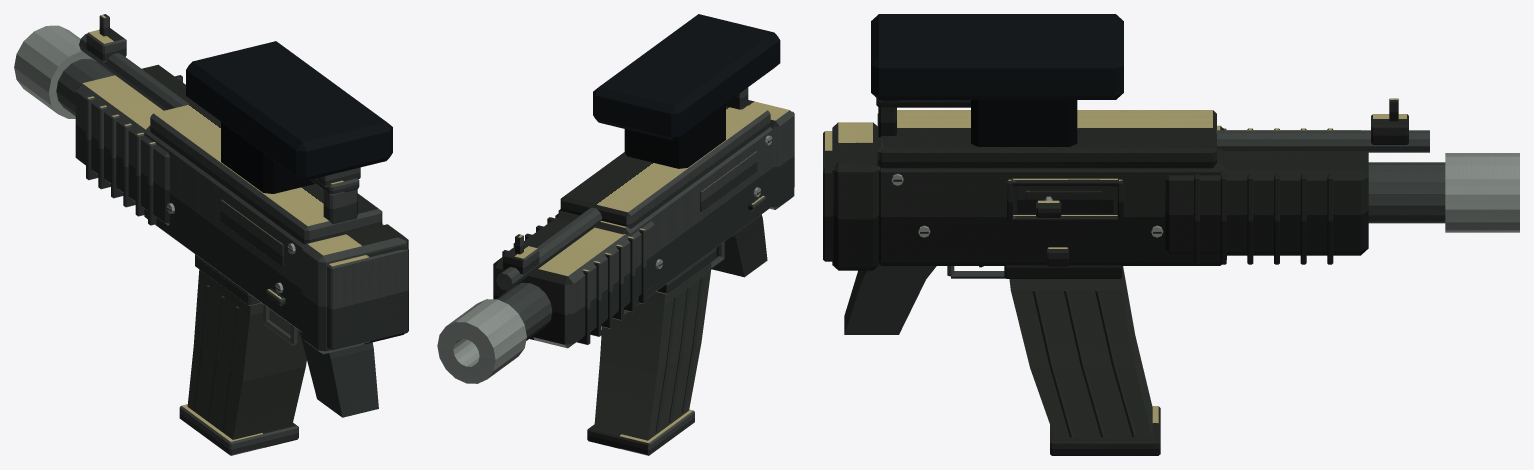
Rendered from Shotgun12Air.obj.
3 renders of one model, left to right at view 1: azimuth 30°, elevation 25°; view 2: azimuth 150°, elevation 25°; view 3: azimuth 270°, elevation 25°, orthographic. The views are drawn at different scales.
Visible parts, largest first — view 1: Mount_lug, box_magazine, receiver_core, upper_receiver, fore_end_core, rear_cap_pad, rear_cap, short_pistol_grip, muzzle_collar, Mount_bearing_bridge, magazine_floorplate, upper_gas_tube (+16 smaller); view 2: Mount_lug, box_magazine, receiver_core, fore_end_core, upper_receiver, muzzle_collar, Mount_bearing_bridge, rear_cap, short_pistol_grip, upper_gas_tube, magazine_floorplate, short_barrel (+12 smaller); view 3: receiver_core, Mount_lug, fore_end_core, box_magazine, upper_receiver, rear_cap, muzzle_collar, Mount_bearing_bridge, short_barrel, short_pistol_grip, upper_gas_tube, magazine_floorplate (+11 smaller).
Part boxes in pixels (x1,y1,x2,y2): Mount_lug: (186,41,392,181); box_magazine: (187,269,306,439); receiver_core: (144,125,306,332); upper_receiver: (150,103,382,244); fore_end_core: (75,64,194,225); rear_cap_pad: (327,245,408,351); rear_cap: (302,224,408,354); short_pistol_grip: (298,330,378,417); muzzle_collar: (14,25,95,118); Mount_bearing_bridge: (221,122,315,193); magazine_floorplate: (179,404,298,455); upper_gas_tube: (79,33,189,110); Mount_lug: (593,14,780,140); box_magazine: (594,262,711,440); receiver_core: (555,127,772,313); fore_end_core: (493,217,654,348); upper_receiver: (560,105,770,228); muzzle_collar: (437,299,526,383); Mount_bearing_bridge: (624,103,725,168); rear_cap: (748,100,794,209); short_pistol_grip: (712,214,767,277); upper_gas_tube: (496,207,602,290); magazine_floorplate: (587,409,694,455); short_barrel: (496,282,552,340); receiver_core: (877,125,1226,265); Mount_lug: (871,14,1123,99); fore_end_core: (1165,130,1368,255); box_magazine: (1009,266,1152,438); upper_receiver: (877,110,1216,168); rear_cap: (832,122,878,270); muzzle_collar: (1445,153,1519,232); Mount_bearing_bridge: (971,100,1077,146); short_barrel: (1368,162,1445,223); short_pistol_grip: (844,264,936,334); upper_gas_tube: (1216,130,1429,152); magazine_floorplate: (1050,406,1160,455).
Bounding box in the file's own units: 0.2225 × 0.6675 × 1.05.
